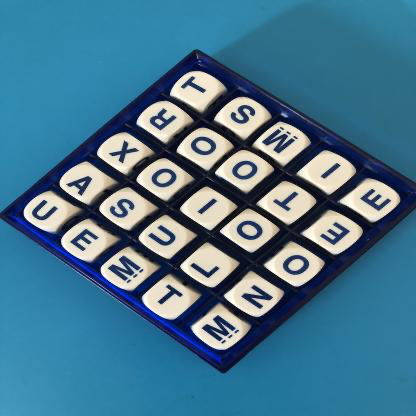a: (62, 167, 107, 200)
e: (312, 216, 361, 251), (352, 184, 399, 218), (64, 226, 108, 258)
i: (308, 154, 354, 189), (186, 192, 231, 227)
l: (188, 249, 234, 286)
m: (196, 310, 246, 350), (259, 124, 306, 161), (106, 254, 148, 289)
n: (234, 280, 281, 316)
o: (274, 249, 320, 284), (228, 215, 275, 249), (224, 155, 268, 189), (184, 132, 229, 164), (142, 164, 187, 196)
r: (142, 104, 186, 137)
s: (103, 192, 149, 226), (222, 99, 268, 132)
t: (147, 280, 193, 317), (267, 187, 312, 221), (177, 75, 220, 105)
u: (144, 220, 190, 255), (25, 195, 71, 229)
x: (104, 136, 145, 168)
